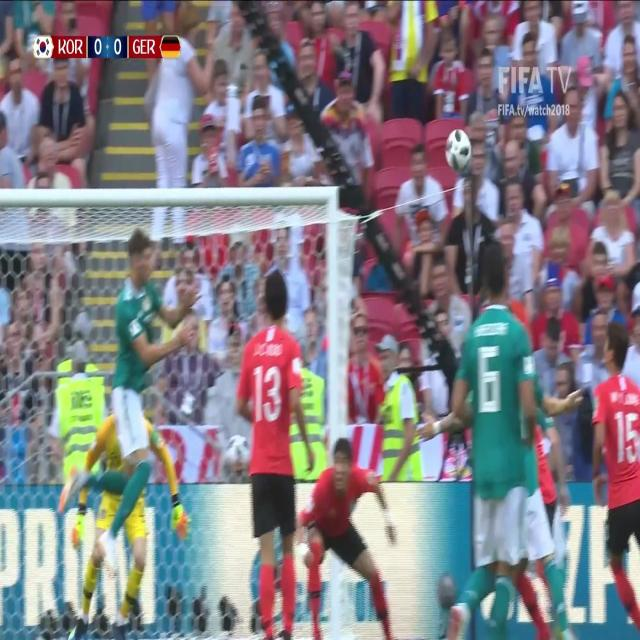ball: (443, 123, 475, 172)
player: (438, 252, 574, 626), (74, 210, 199, 568), (226, 264, 321, 635), (73, 387, 193, 629), (297, 432, 401, 634), (586, 308, 638, 626)
